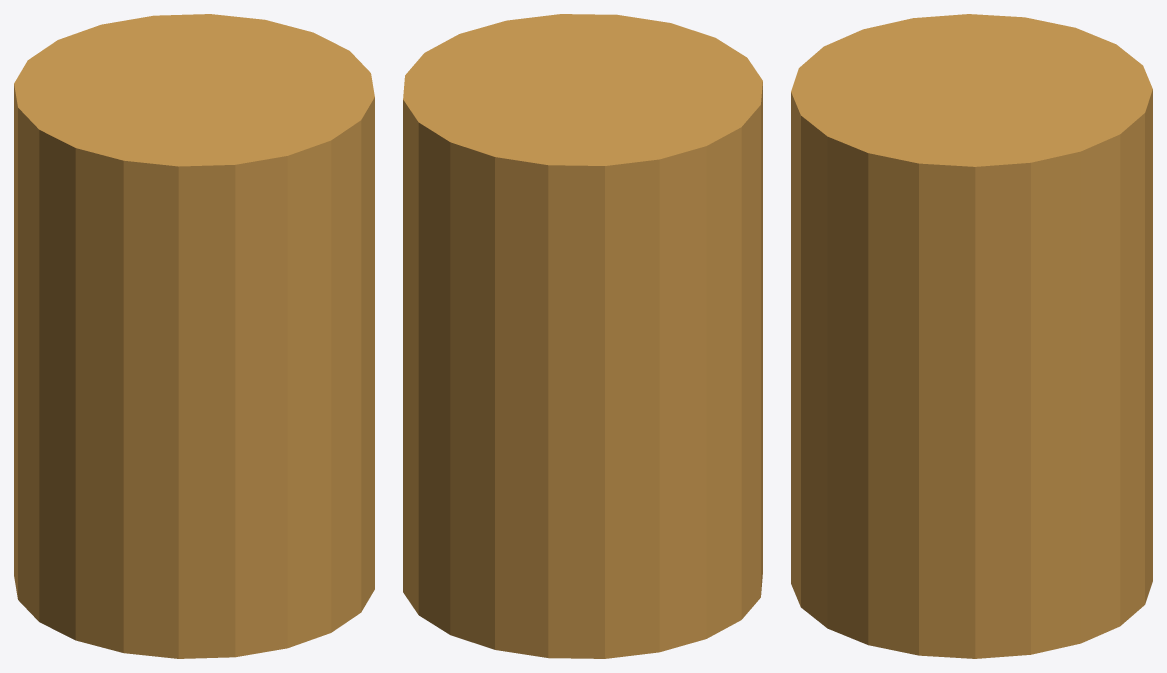
The model's file is yani_castle.glb.
The picture shows the model from 3 angles, left to right: view 1: azimuth 30°, elevation 25°; view 2: azimuth 150°, elevation 25°; view 3: azimuth 270°, elevation 25°; orthographic projection.
Parts seen in each view (by area): view 1: Mesh_Mesh_head_geo.001_lambert2SG.001; view 2: Mesh_Mesh_head_geo.001_lambert2SG.001; view 3: Mesh_Mesh_head_geo.001_lambert2SG.001.
Boxes of the visible parts, x1,y1,x2,y2 form: Mesh_Mesh_head_geo.001_lambert2SG.001: [14, 14, 374, 658]; Mesh_Mesh_head_geo.001_lambert2SG.001: [403, 14, 762, 658]; Mesh_Mesh_head_geo.001_lambert2SG.001: [791, 14, 1152, 658].
Bounding box in the file's own units: 20 × 30 × 20.
